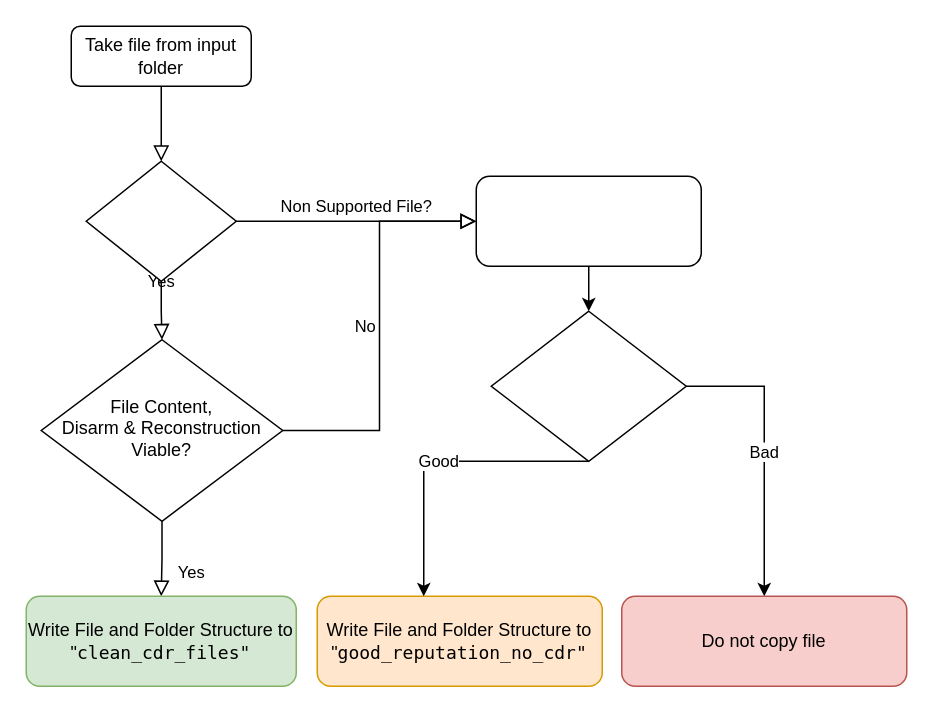
This 933x713 diagram has some shape labels left out. Here are the shapes that lost their labels. From the top down, the centre of each, then its label:
[160,220]: CDR File Detection
[588,220]: Query Reputation Service and write report to " reputation_reports"
[588,385]: Malware Reputation Good or Bad?
